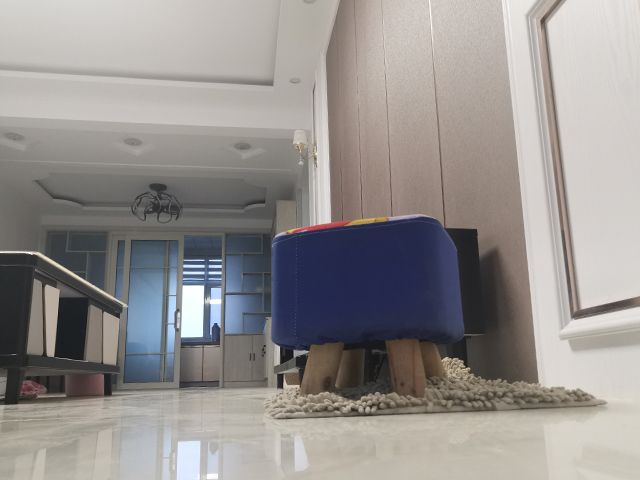cabinet: (177, 341, 222, 384)
carpet: (261, 354, 608, 423)
stool: (266, 212, 467, 401)
table: (1, 249, 130, 407)
